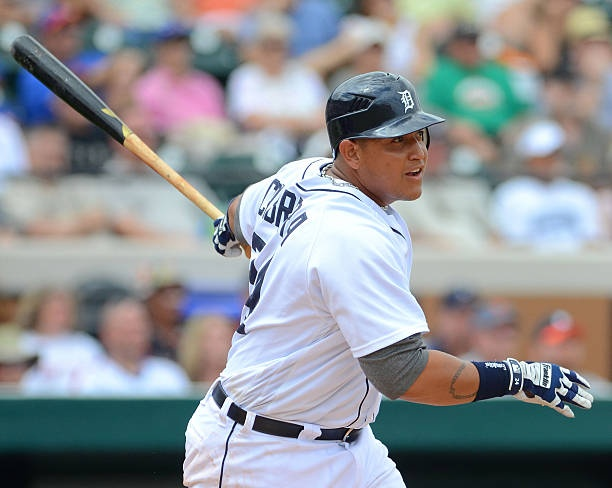bita: (11, 29, 236, 220)
